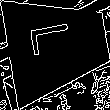L_E: (32, 26, 83, 65)
